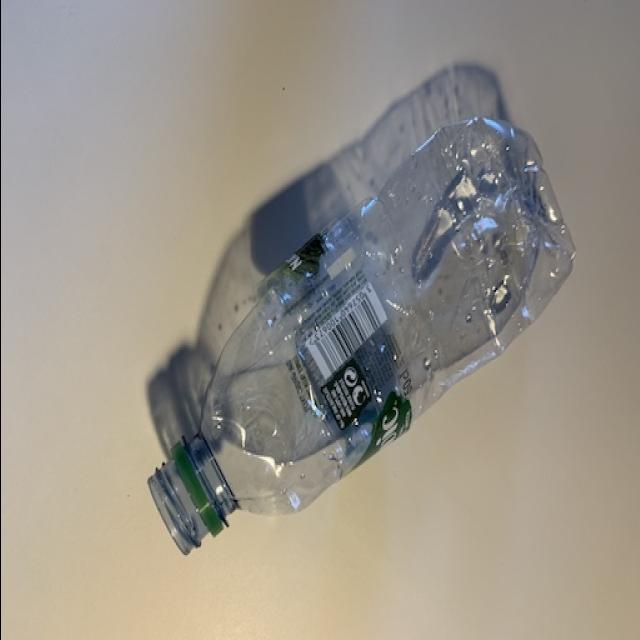PET: (143, 119, 576, 556)
